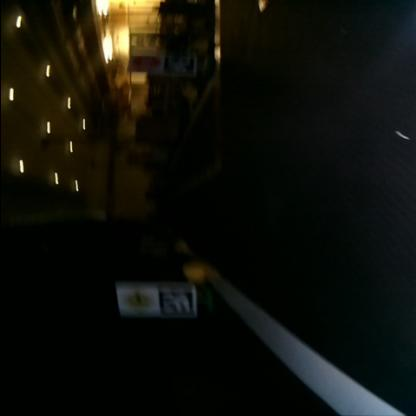Duckie: (182, 264, 206, 283)
Intersection sign: (120, 287, 150, 315)
QR code: (156, 288, 192, 316), (162, 56, 192, 74)
Stop sign: (129, 55, 159, 71)
